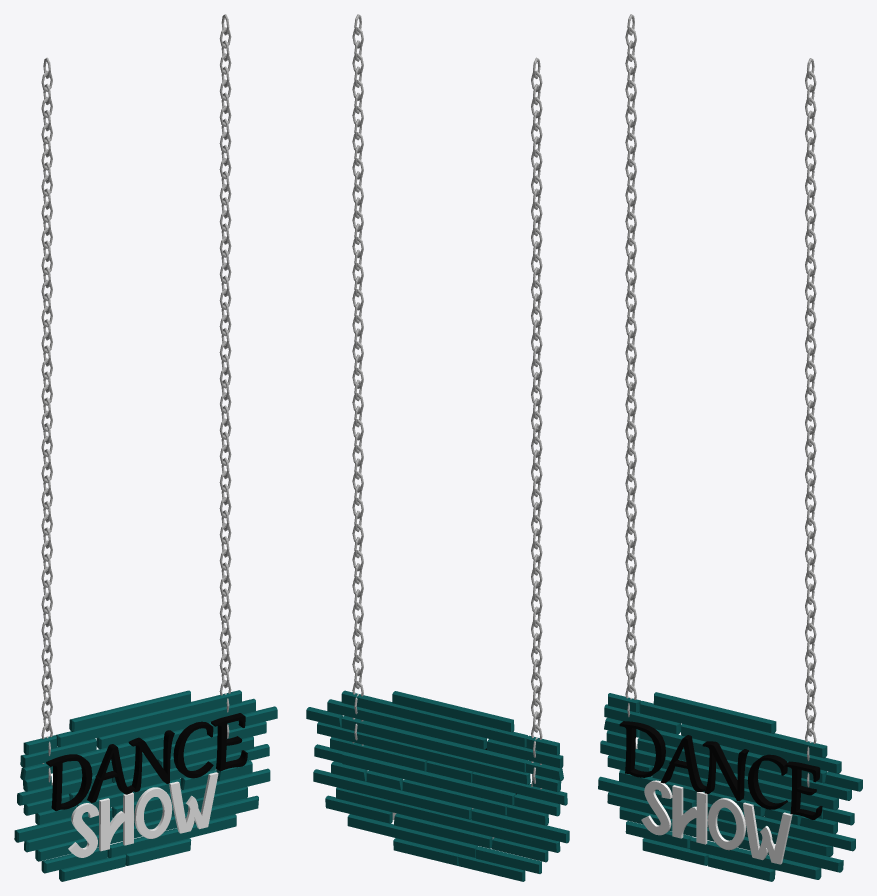
Rendered from DanceShow_Mesh.fbx.
The picture shows the model from 3 angles, left to right: view 1: azimuth 30°, elevation 25°; view 2: azimuth 150°, elevation 25°; view 3: azimuth 330°, elevation 25°; orthographic projection.
Visible parts, largest first — view 1: DanceSHow_Mesh; view 2: DanceSHow_Mesh; view 3: DanceSHow_Mesh.
Boxes of the visible parts, box(x1,y1,x2,y2) form: DanceSHow_Mesh: box(14, 14, 277, 881); DanceSHow_Mesh: box(306, 14, 569, 881); DanceSHow_Mesh: box(598, 14, 862, 881).
Bounding box in the file's own units: 355 × 1077 × 25.17.
